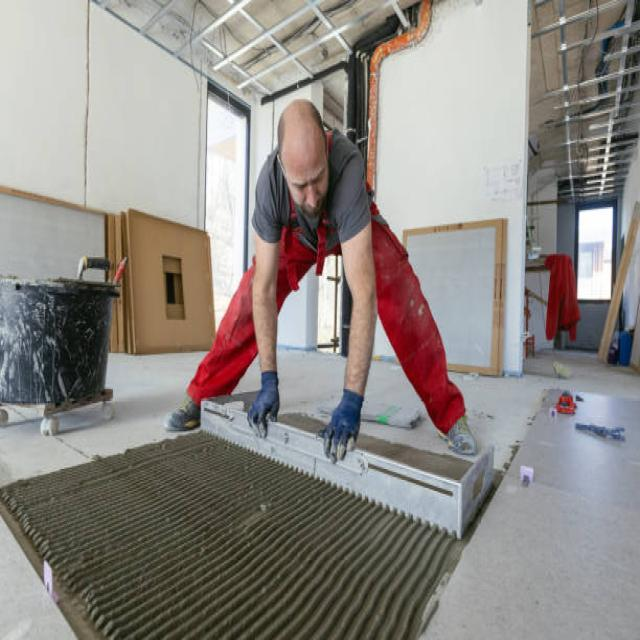Gloves: (318, 377, 368, 464), (246, 365, 284, 437)
person: (161, 98, 486, 459)
